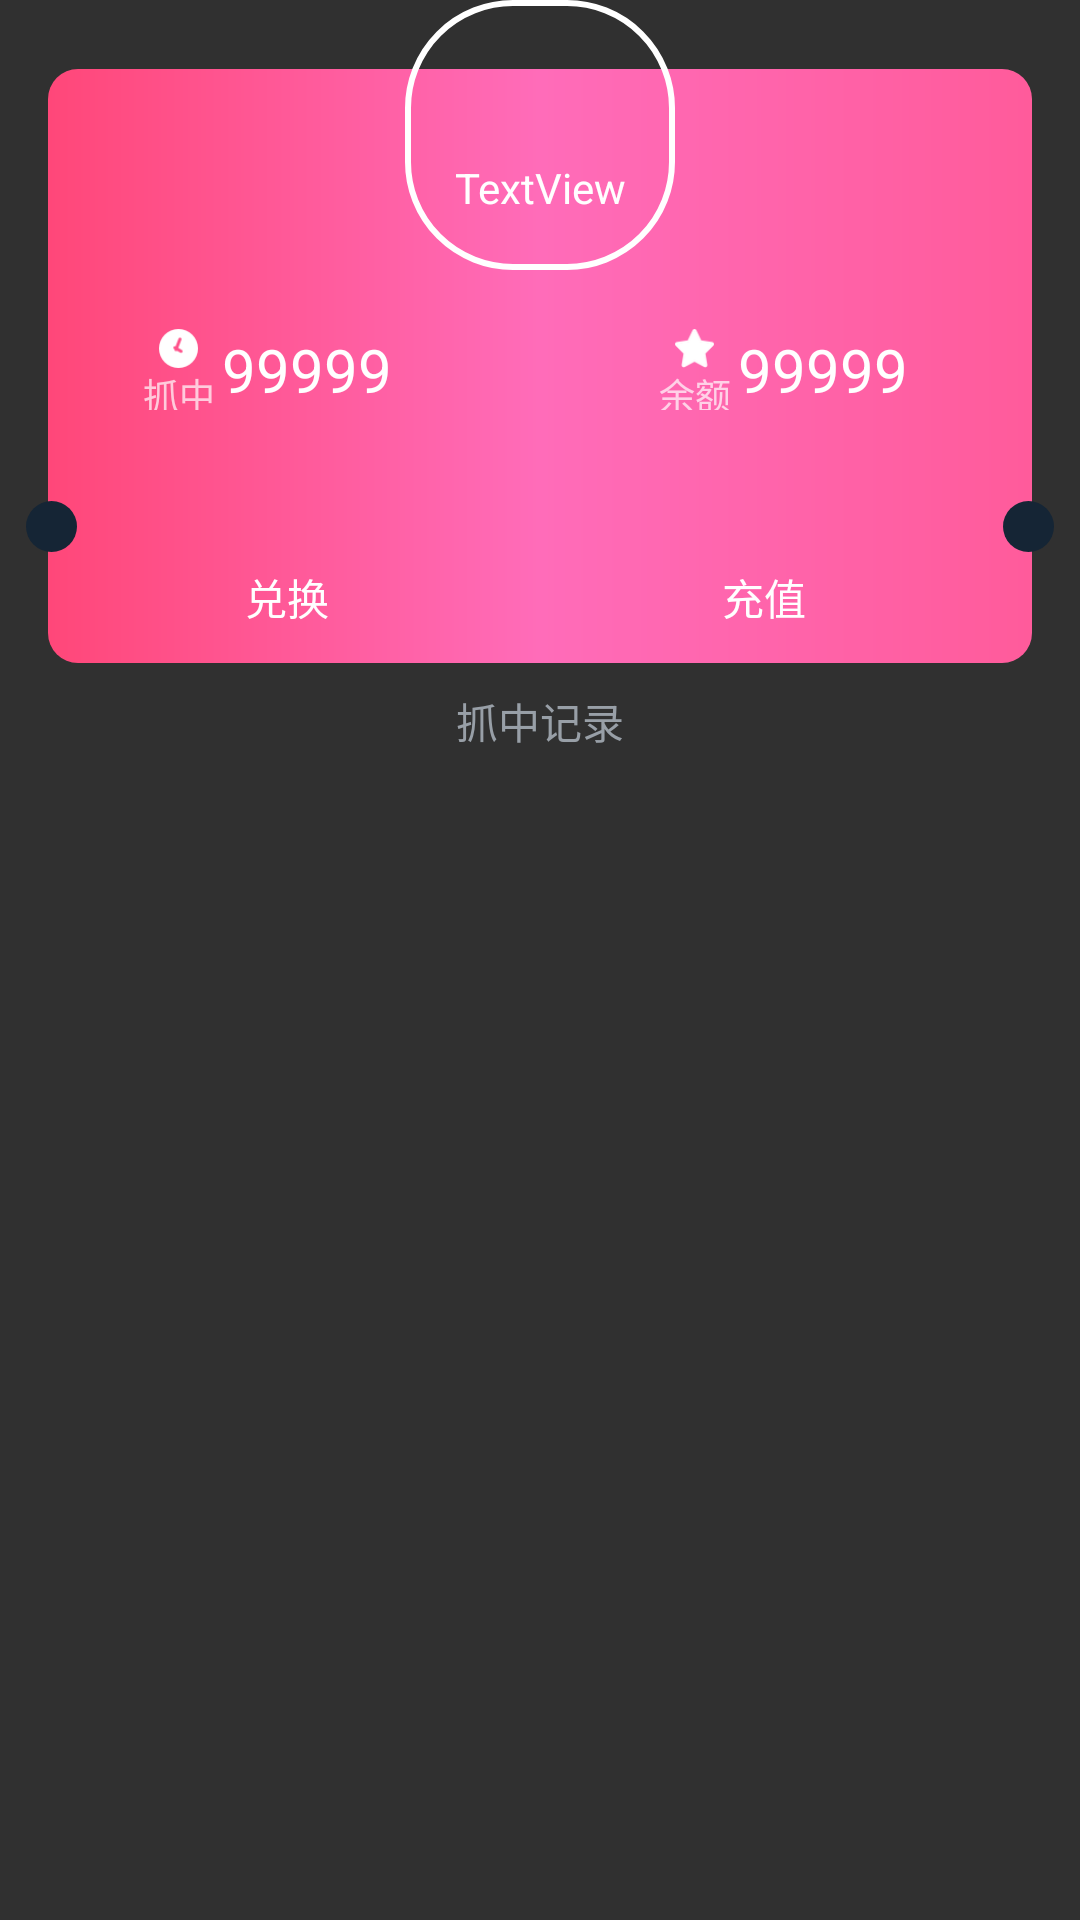

Icons on this 1080×1920 Android screen, each with its box as rect(x1, y1, x2, y2):
star: rect(675, 329, 714, 368)
time: rect(159, 329, 198, 368)
